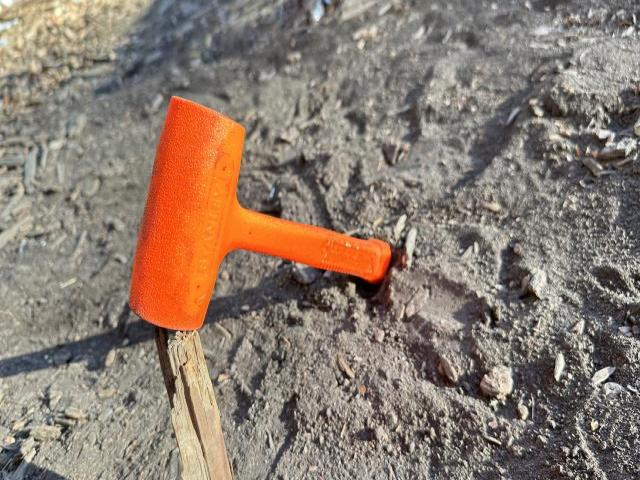hammer: (128, 93, 390, 332)
